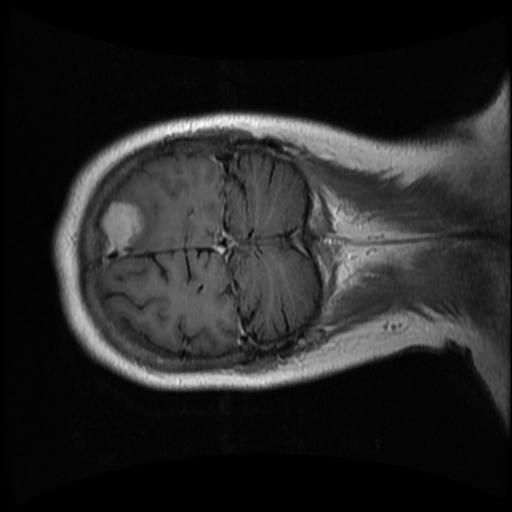meningioma: (99, 201, 144, 256)
